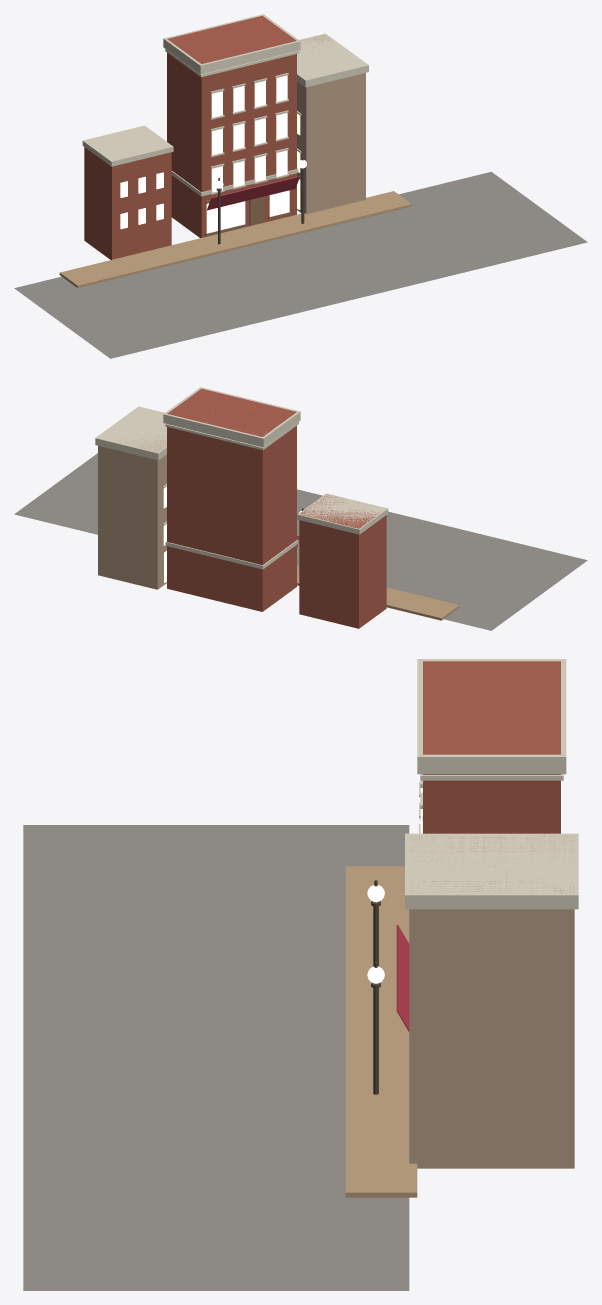
File: atlanta-corner-block.glb
3 renders of one model, top to bottom at view 1: azimuth 30°, elevation 25°; view 2: azimuth 150°, elevation 25°; view 3: azimuth 270°, elevation 25°, orthographic. The views are drawn at different scales.
Parts seen in each view (by area): view 1: street, pharmacy_main, corner_main, distant_main, sidewalk, corner_cornice, distant_cornice, pharmacy_cornice, awning, display_window_left, display_window_right, pharmacy_floor_band_1 (+1 smaller); view 2: pharmacy_main, street, distant_main, corner_main, corner_cornice, distant_cornice, pharmacy_cornice, sidewalk, pharmacy_floor_band_1, pharmacy_cornice_band; view 3: street, corner_main, pharmacy_main, sidewalk, corner_cornice, pharmacy_cornice, awning, pharmacy_cornice_band.
Part boxes in pixels (x1,y1,x2,y2): street: (14,171,587,358); pharmacy_main: (167,15,296,237); corner_main: (297,35,365,214); distant_main: (84,147,171,259); sidewalk: (59,191,411,287); corner_cornice: (297,33,368,87); distant_cornice: (82,125,173,166); pharmacy_cornice: (163,14,300,74); awning: (207,176,299,210); display_window_left: (206,201,245,233); display_window_right: (269,190,289,216); pharmacy_floor_band_1: (171,168,298,196); pharmacy_main: (167,388,296,611); street: (14,453,587,630); distant_main: (299,494,386,628); corner_main: (98,434,166,589); corner_cornice: (95,406,166,460); distant_cornice: (297,493,388,534); pharmacy_cornice: (163,387,300,447); sidewalk: (297,565,459,620); pharmacy_floor_band_1: (165,539,298,569); pharmacy_cornice_band: (165,422,298,450); street: (23,825,409,1290); corner_main: (409,835,574,1168); pharmacy_main: (423,661,560,833); sidewalk: (345,866,417,1197); corner_cornice: (405,833,578,909); pharmacy_cornice: (417,659,566,774); awning: (396,925,409,1032); pharmacy_cornice_band: (420,774,563,780).
Size of the model in its own units: 40 by 14 by 20.15.
